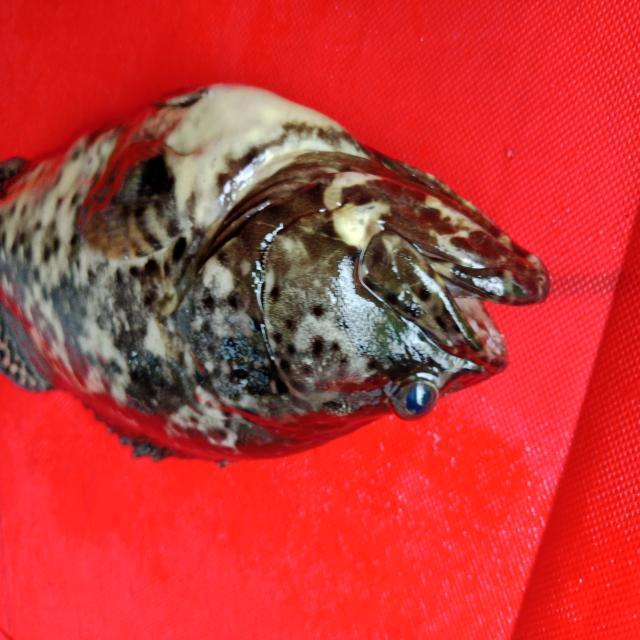ikan: (17, 56, 579, 492)
